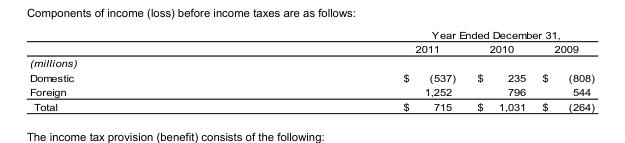table: (29, 28, 593, 111)
table column: (237, 28, 465, 111), (29, 28, 237, 111), (465, 28, 533, 111), (533, 28, 593, 111)
table column header: (29, 28, 593, 55)
table projected row header: (29, 55, 593, 70)
table row: (29, 55, 593, 70), (29, 41, 593, 55), (29, 70, 593, 84), (29, 84, 593, 98), (29, 28, 593, 41), (29, 98, 593, 111)
table spanning cell: (237, 28, 593, 41)
